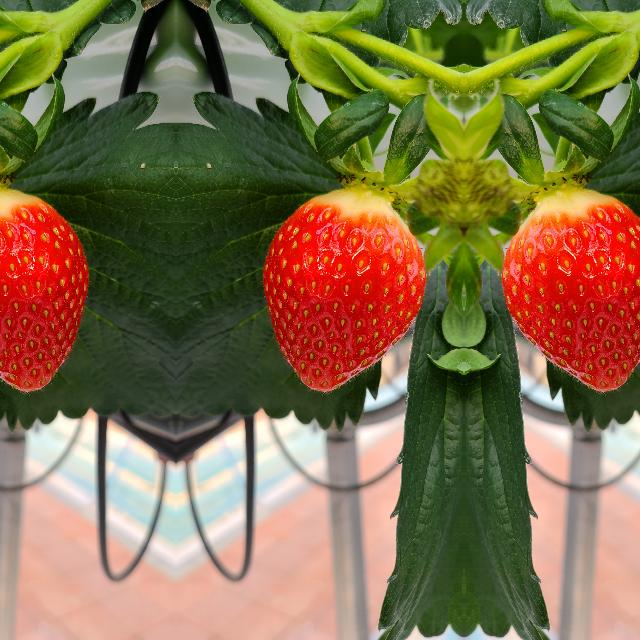Health_100: (259, 188, 426, 396), (499, 188, 640, 396), (0, 188, 90, 396)
